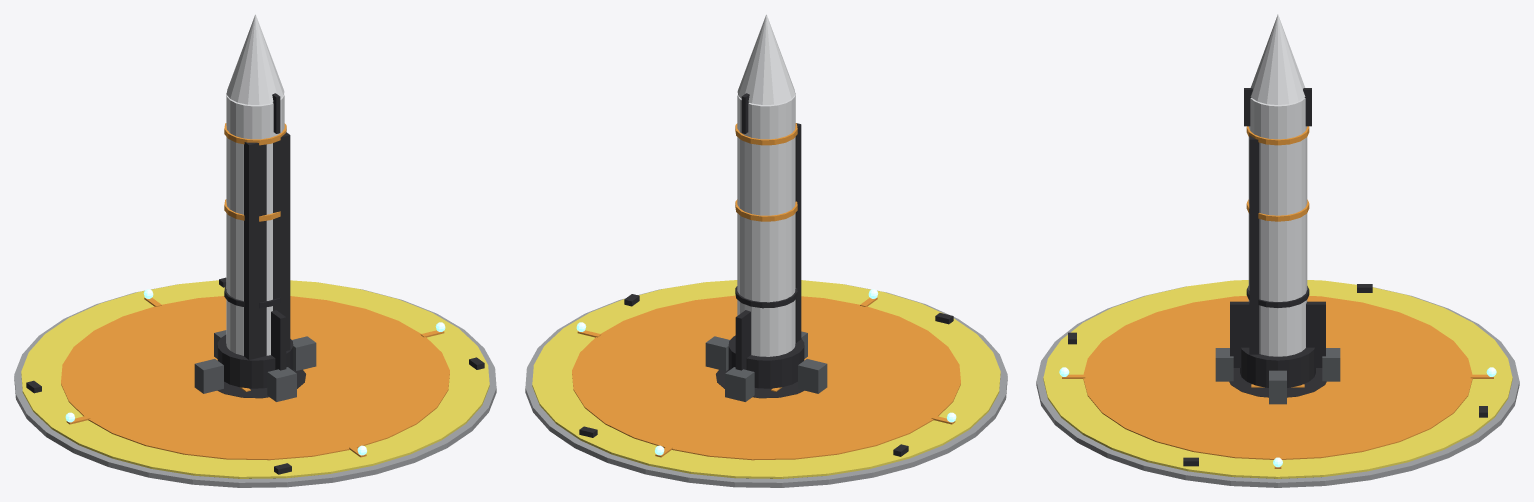
Rendered from SM_Hero_LandingPad.glb.
3 renders of one model, left to right at view 1: azimuth 30°, elevation 25°; view 2: azimuth 150°, elevation 25°; view 3: azimuth 270°, elevation 25°, orthographic.
Visible parts, largest first — view 1: SM_Hero_LandingPad; view 2: SM_Hero_LandingPad; view 3: SM_Hero_LandingPad.
Boxes of the visible parts, <box> form: SM_Hero_LandingPad: <box>14,14,496,487</box>; SM_Hero_LandingPad: <box>525,14,1007,487</box>; SM_Hero_LandingPad: <box>1036,14,1519,487</box>.
Bounding box in the file's own units: 8.61 × 7.33 × 8.61.
